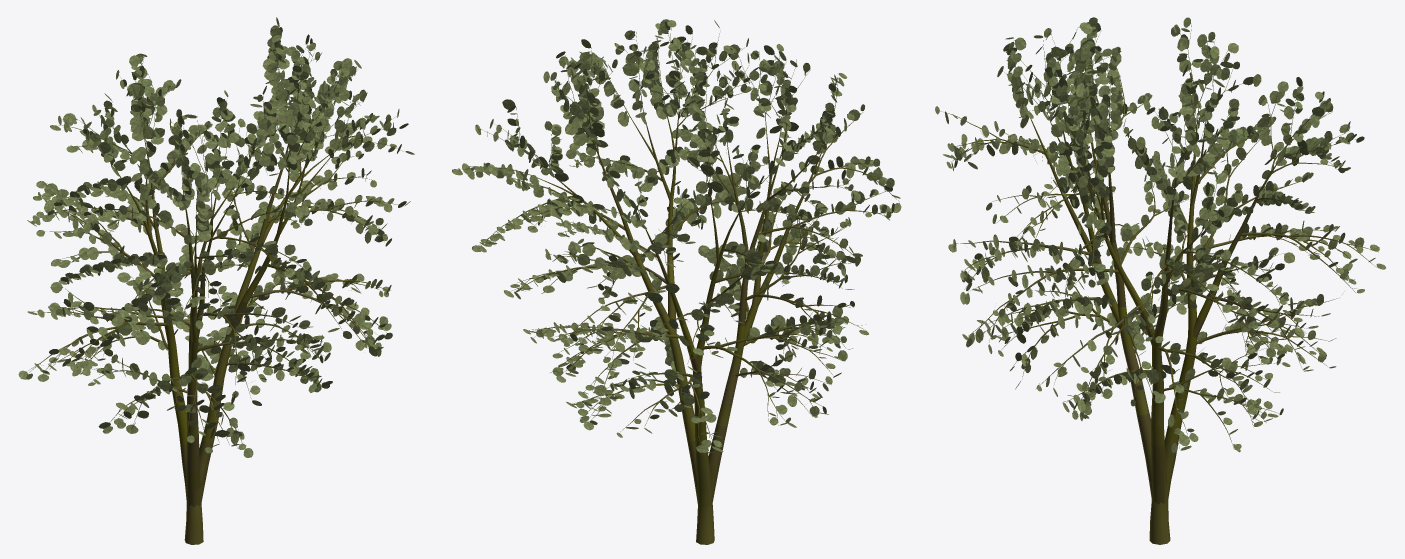
Rendered from Amazonie_Arbre_9.fbx.
3 views of the same model, side by side, from view 1: azimuth 30°, elevation 25°; view 2: azimuth 150°, elevation 25°; view 3: azimuth 270°, elevation 25° (orthographic). The views are drawn at different scales.
Parts seen in each view (by area): view 1: Plane.001, tree; view 2: Plane.001, tree; view 3: Plane.001, tree.
Boxes of the visible parts, x1=… form: Plane.001: x1=18, y1=17, x2=414, y2=457; tree: x1=27, y1=30, x2=403, y2=544; Plane.001: x1=452, y1=19, x2=901, y2=452; tree: x1=470, y1=26, x2=899, y2=544; Plane.001: x1=935, y1=17, x2=1385, y2=452; tree: x1=940, y1=25, x2=1376, y2=544.
Size of the model in its own units: 1221 by 1437 by 1161.
